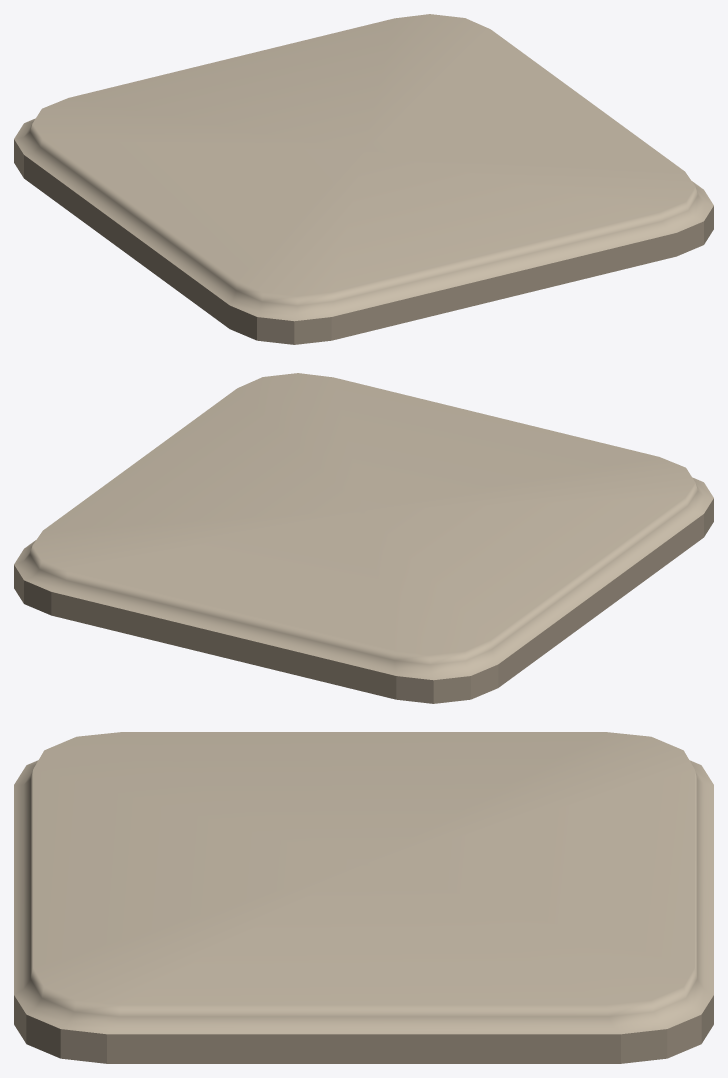
File: gf_paver_01.glb
The picture shows the model from 3 angles, top to bottom: view 1: azimuth 30°, elevation 25°; view 2: azimuth 150°, elevation 25°; view 3: azimuth 270°, elevation 25°; orthographic projection. The views are drawn at different scales.
Parts seen in each view (by area): view 1: gf_paver_01; view 2: gf_paver_01; view 3: gf_paver_01.
Boxes of the visible parts, <box> form: gf_paver_01: <box>14,14,713,344</box>; gf_paver_01: <box>14,373,713,703</box>; gf_paver_01: <box>14,732,713,1063</box>.
Size of the model in its own units: 0.6309 by 0.0567 by 0.6463.
